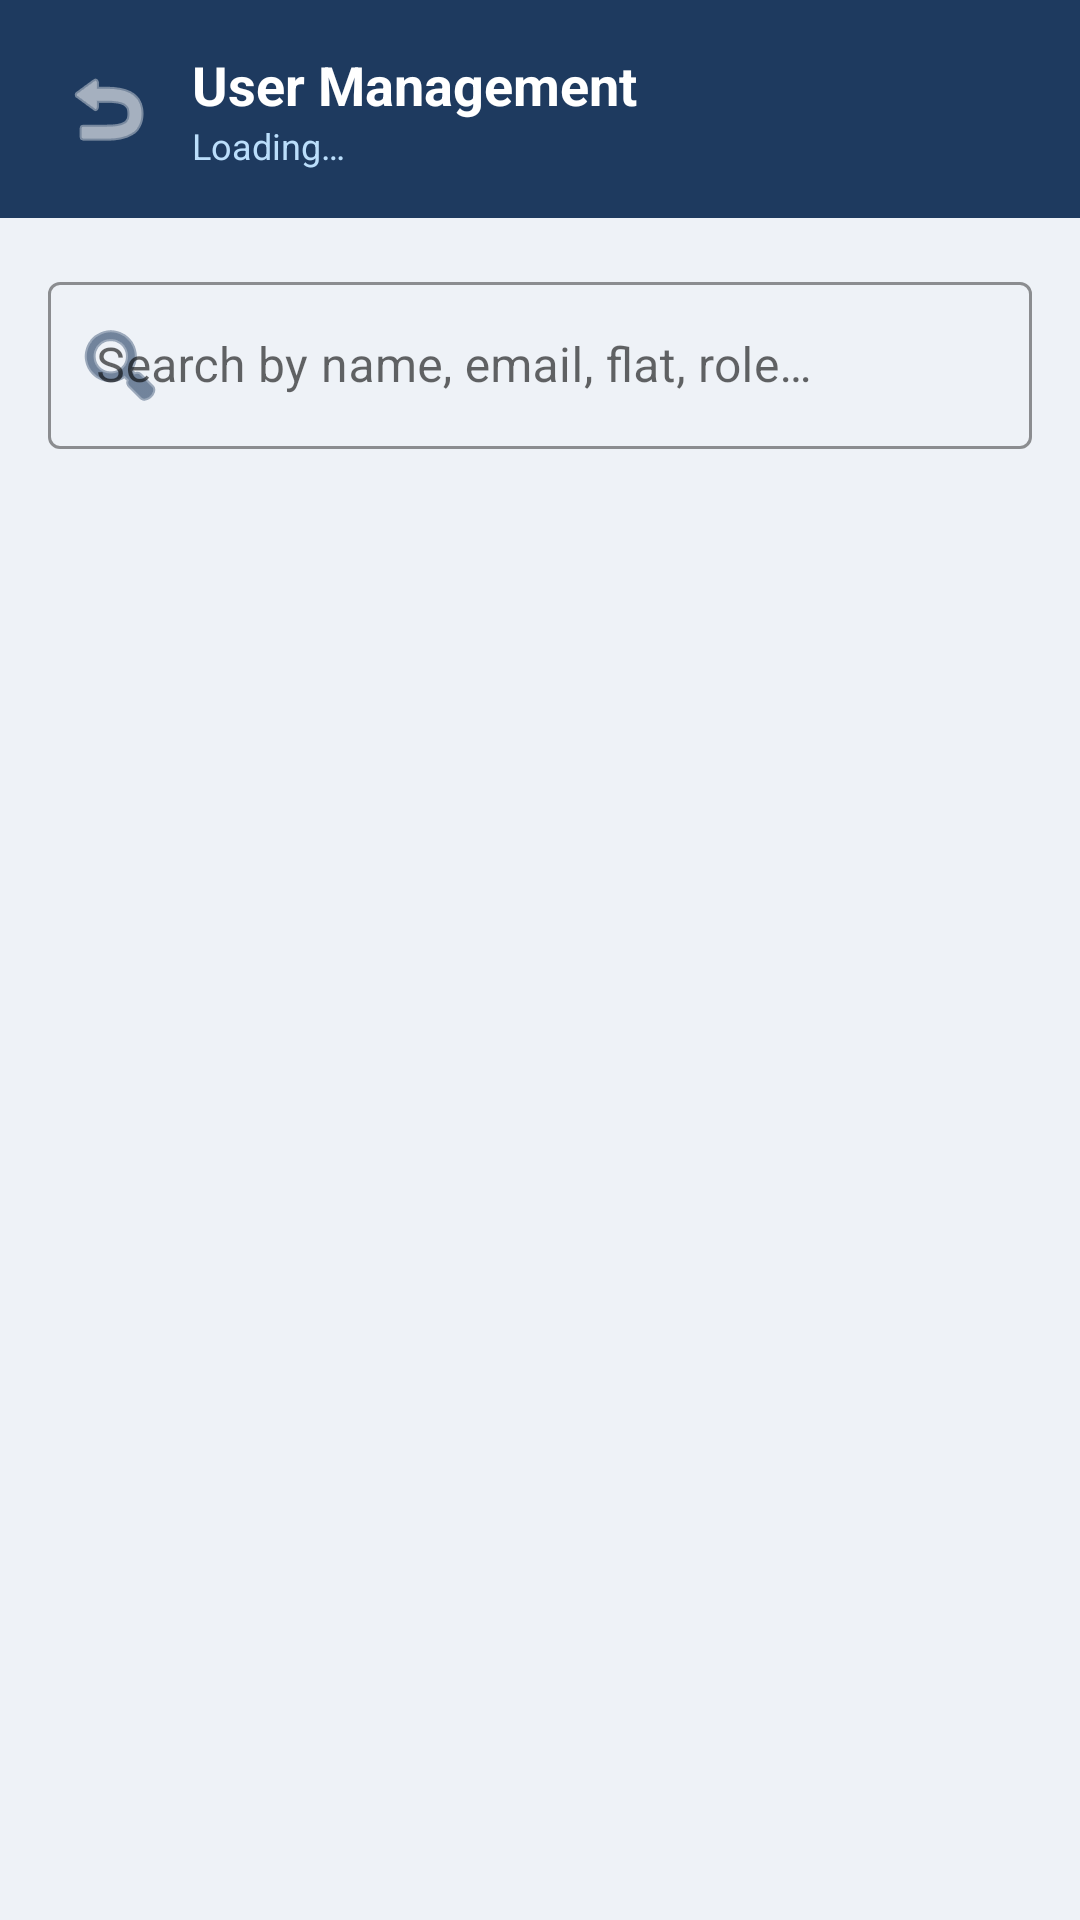

Screen size 1080px x 1920px. Icon name, then its box in pixels as (x1=x1, y1=y1, x2=x2, y2=y2):
Back: (x1=75, y1=78, x2=144, y2=141)
